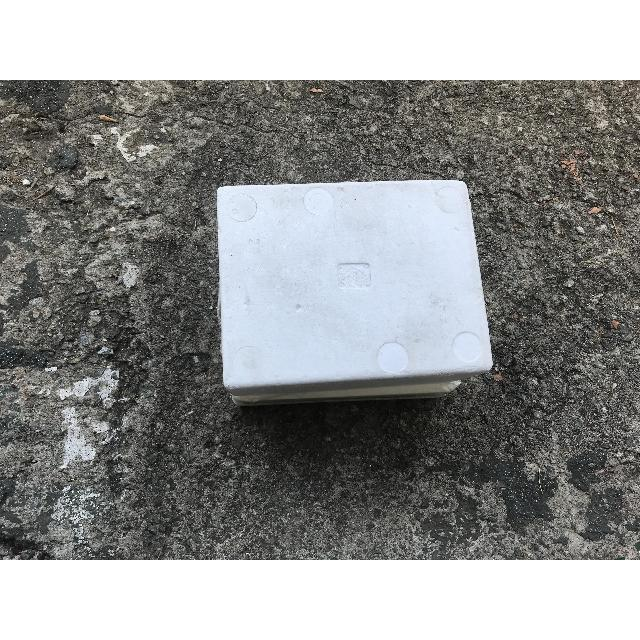Plastico descartable: (215, 180, 493, 410)
